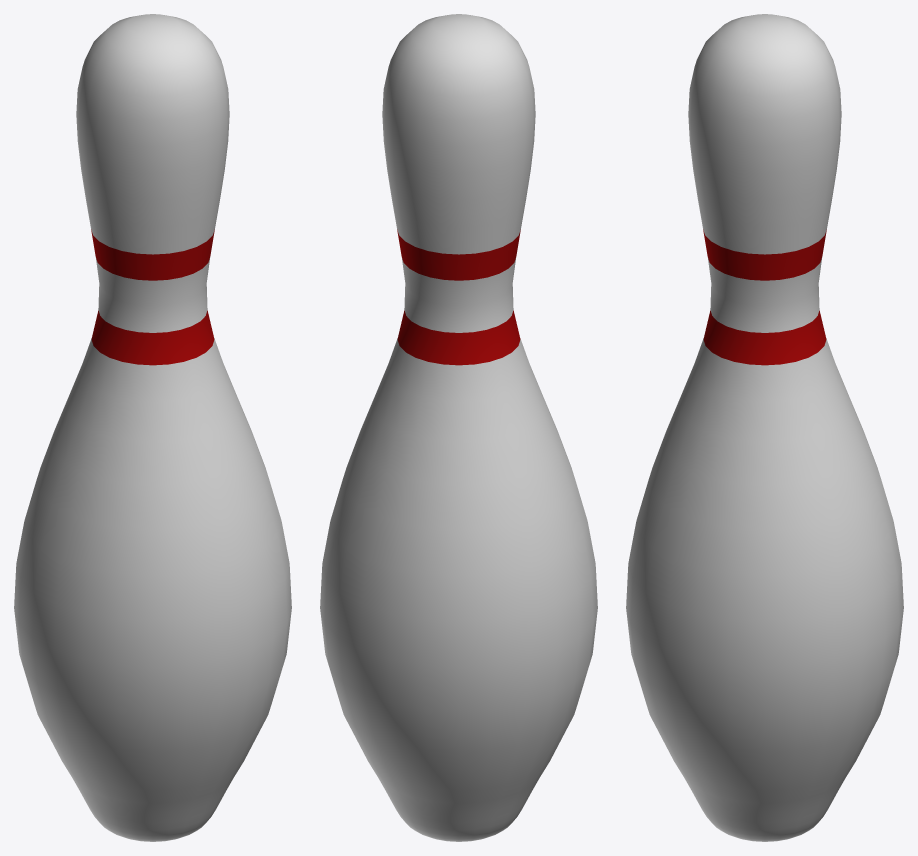
File: BowlingPin.fbx
The picture shows the model from 3 angles, left to right: view 1: azimuth 30°, elevation 25°; view 2: azimuth 150°, elevation 25°; view 3: azimuth 270°, elevation 25°; orthographic projection.
Visible parts, largest first — view 1: Pin; view 2: Pin; view 3: Pin.
Boxes of the visible parts, left/top/right/bottom form: Pin: left=14, top=14, right=291, bottom=841; Pin: left=320, top=14, right=597, bottom=841; Pin: left=626, top=14, right=903, bottom=841.
Bounding box in the file's own units: 119 × 379 × 119.
